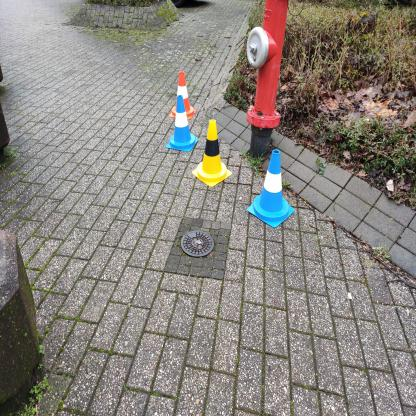Cones_small_blue: (244, 144, 302, 244), (164, 96, 198, 158)
Cones_small_yellow: (192, 119, 232, 199)
